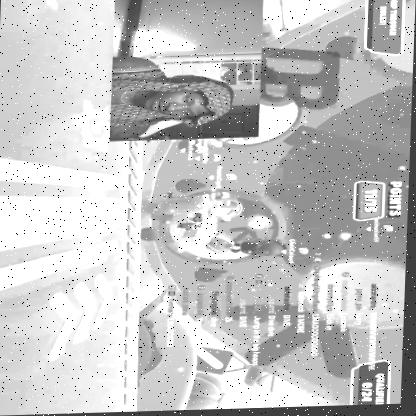streamer: (110, 55, 236, 142)
